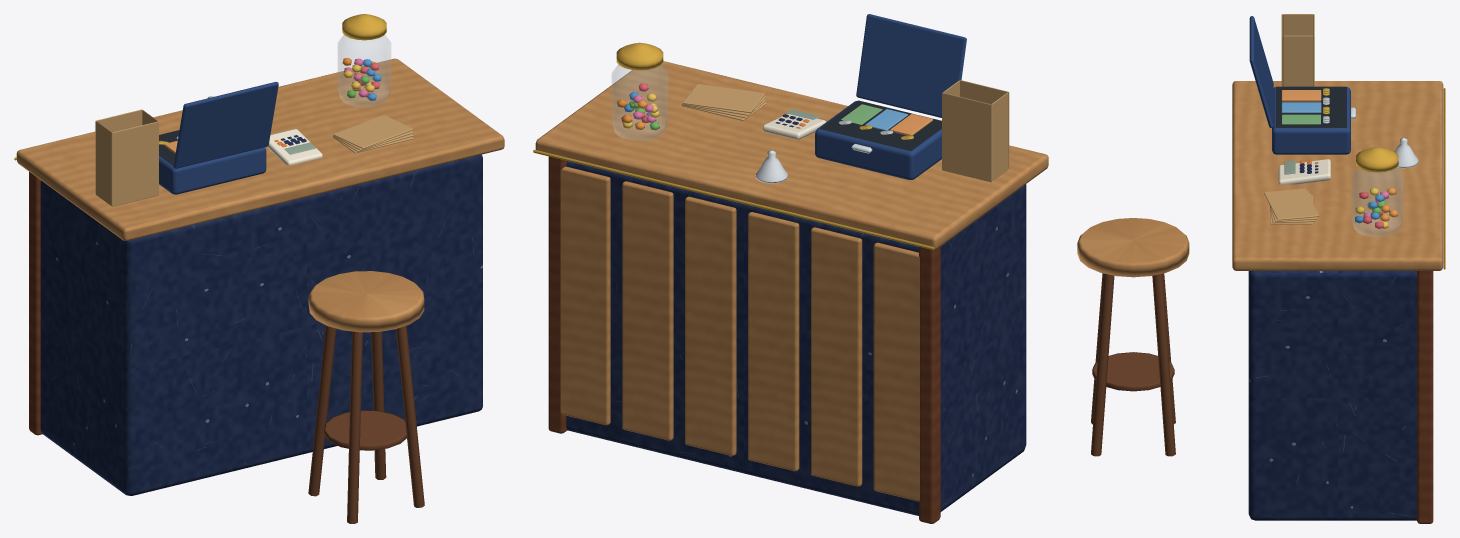
Rendered from checkout_T1.fbx.
3 renders of one model, left to right at view 1: azimuth 30°, elevation 25°; view 2: azimuth 150°, elevation 25°; view 3: azimuth 270°, elevation 25°, orthographic. The views are drawn at different scales.
Visible parts, largest first — view 1: Body; view 2: Body; view 3: Body.
Part boxes in pixels (x1,y1,x2,y2): Body: (14,14,504,523); Body: (533,14,1048,523); Body: (1077,14,1445,523).
Bounding box in the file's own units: 1.29 × 1.23 × 1.12.
